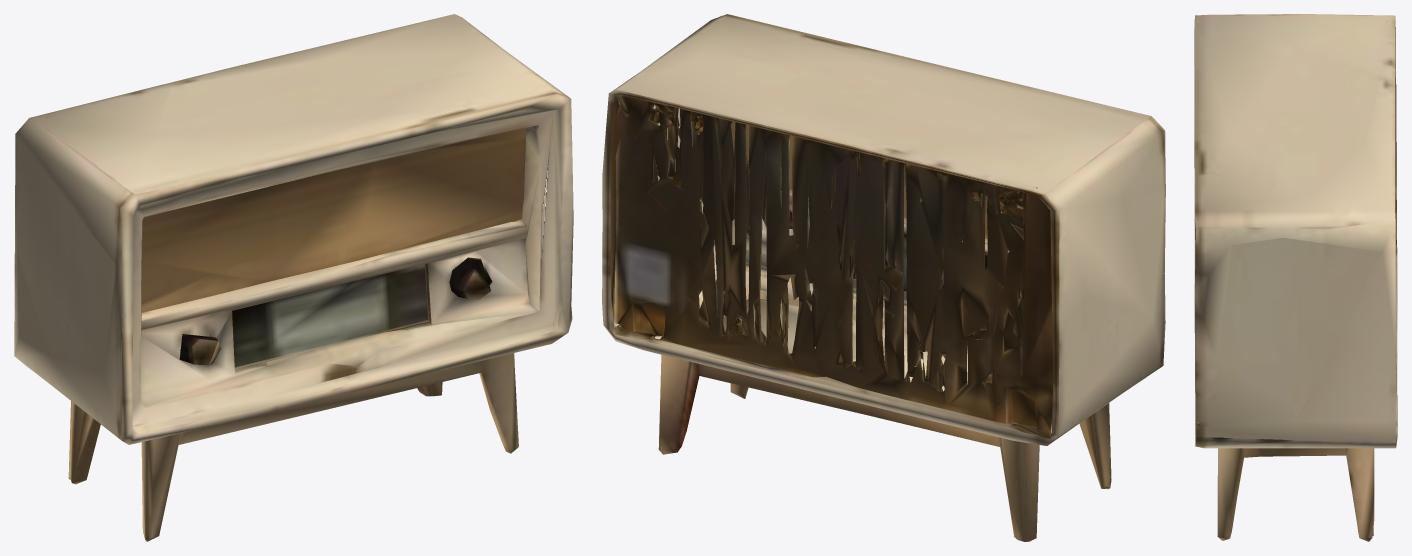
File: radiola.movil.glb
The picture shows the model from 3 angles, left to right: view 1: azimuth 30°, elevation 25°; view 2: azimuth 150°, elevation 25°; view 3: azimuth 270°, elevation 25°; orthographic projection. The views are drawn at different scales.
Parts seen in each view (by area): view 1: geometry_0; view 2: geometry_0; view 3: geometry_0.
Part boxes in pixels (x1,y1,x2,y2): geometry_0: (14,14,573,541); geometry_0: (602,14,1165,541); geometry_0: (1194,14,1397,541).
Size of the model in its own units: 1.1 by 0.846 by 0.4487.
1 material, 1 textured.
